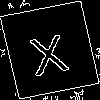X: (25, 25, 71, 77)
